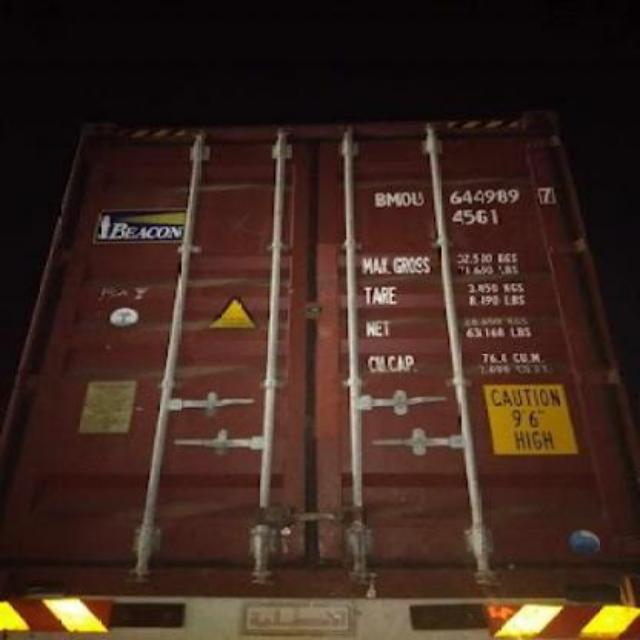4: (472, 190, 484, 204), (462, 190, 474, 202)
6: (450, 188, 460, 204)
7: (540, 187, 554, 203)
8: (498, 190, 508, 202)
9: (508, 188, 522, 204), (486, 190, 498, 202)
B: (376, 192, 384, 206)
M: (386, 192, 402, 204)
O: (400, 190, 412, 206)
U: (412, 192, 424, 204)
